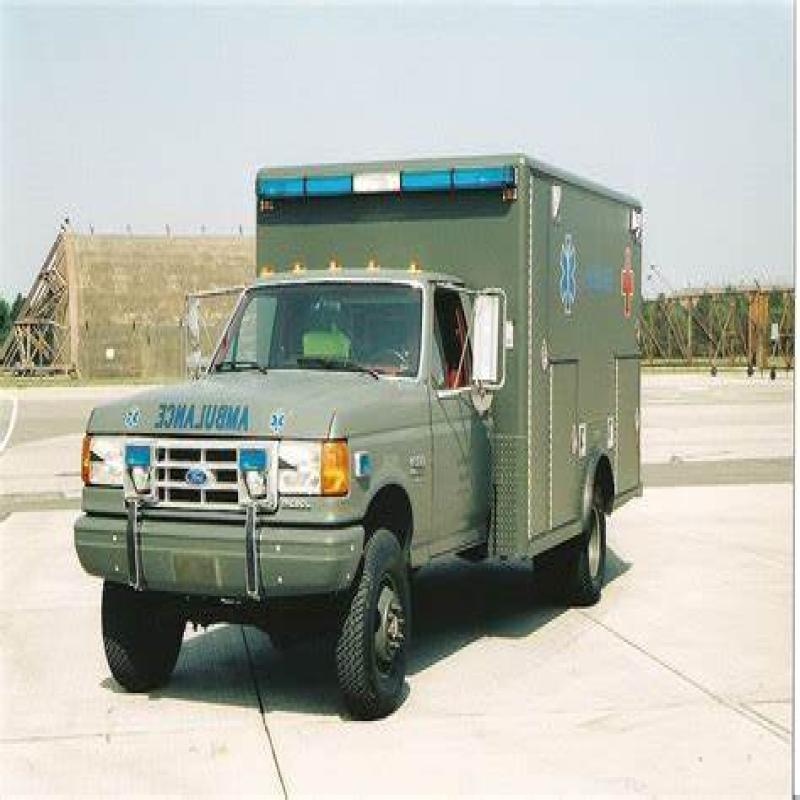AmbulanceSiren: (248, 150, 521, 223)
